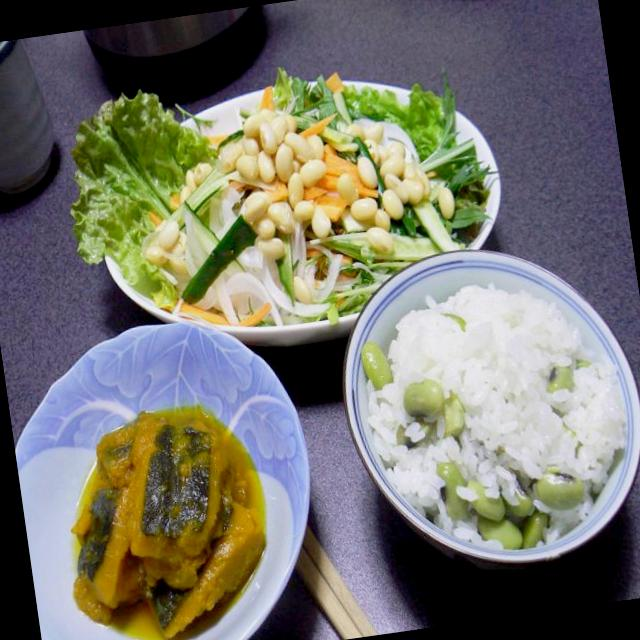Green Salad: (80, 53, 496, 328)
Rice: (342, 242, 640, 579)
